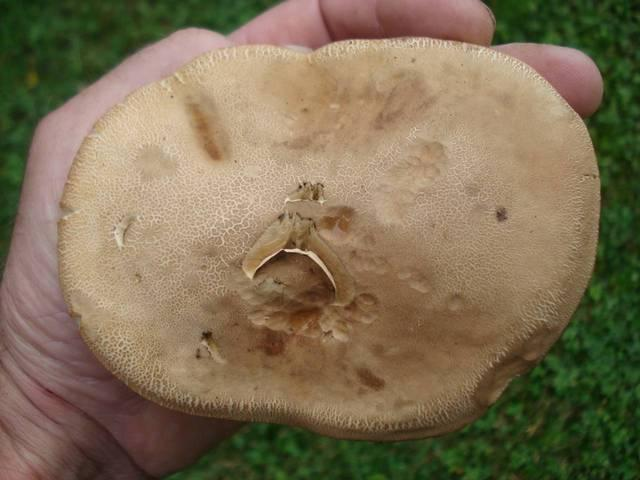poisonous_mushroom: (54, 35, 602, 442)
